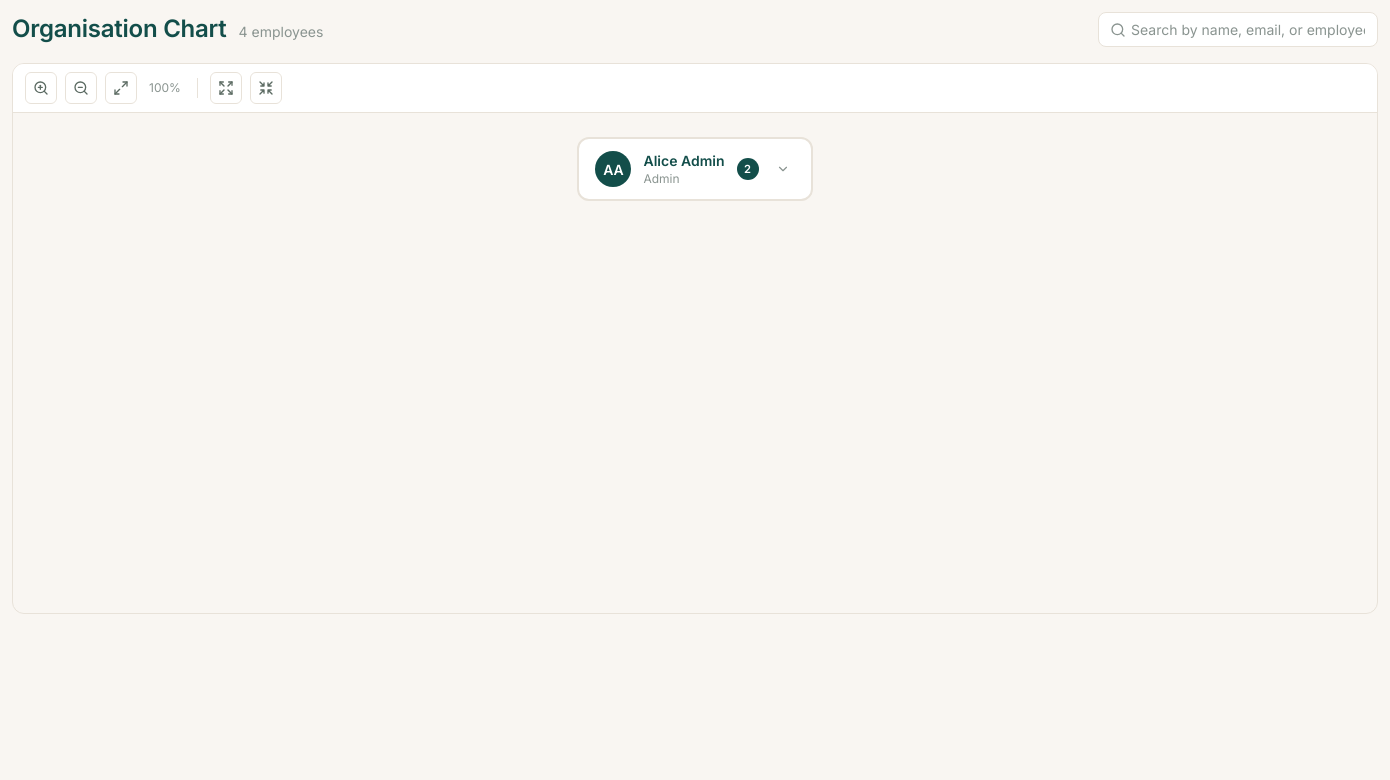
Test case: OrgChartPage › search highlights matching employee and shows no match
The width and height of the screenshot is (1390, 780).
Expected: the text "Alice Admin" is shown, 644,152 -> 724,169
Type "Charlie" into the field with placeholder "Search by name, email, or employee number…".
click(1238, 30); type("Charlie")  # box 1098,12 -> 1378,47
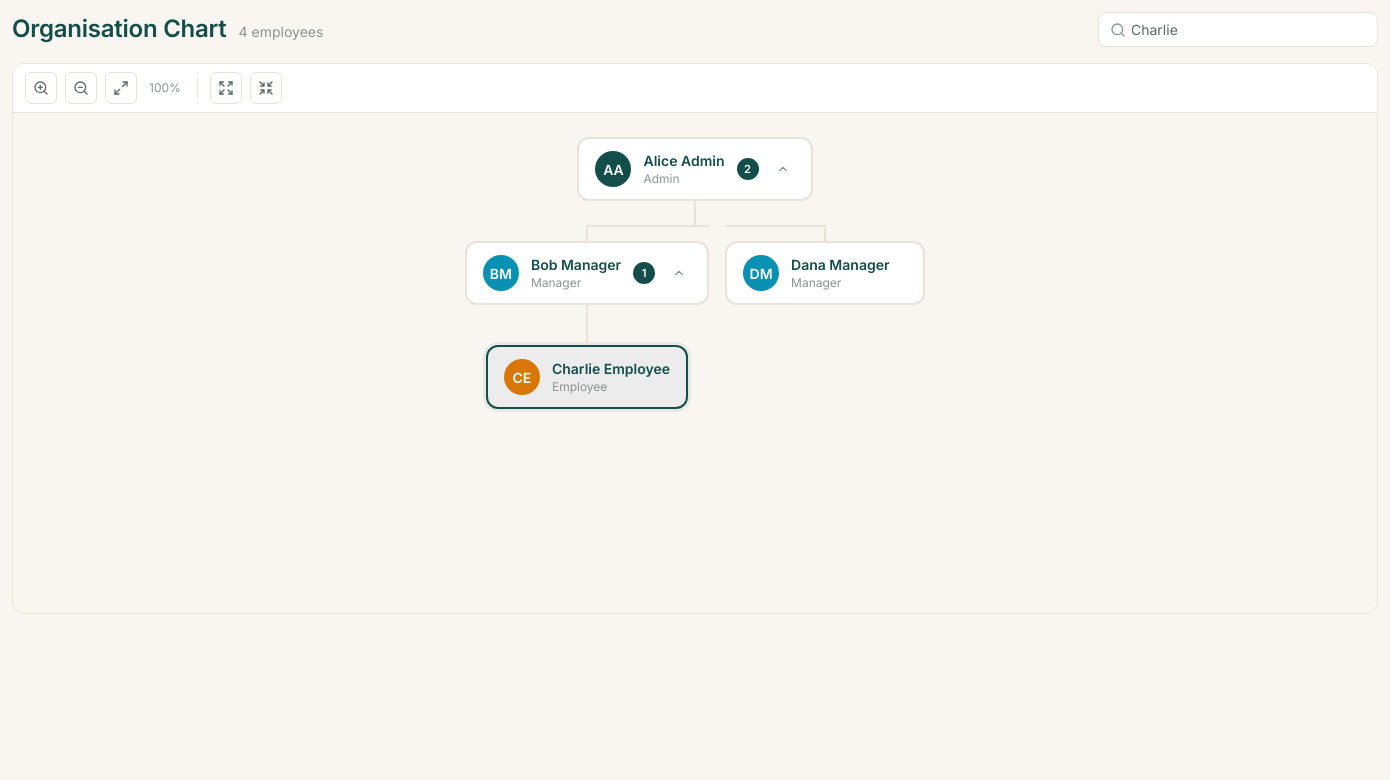
Expected: the element showing "CE Charlie Employee Employee" is shown, 486,329 -> 688,409
Replace the text in the field with placeholder "Search by name, email, or employee number…" with "Zzzzzzz" at (1238, 30), box 1098,12 -> 1378,47
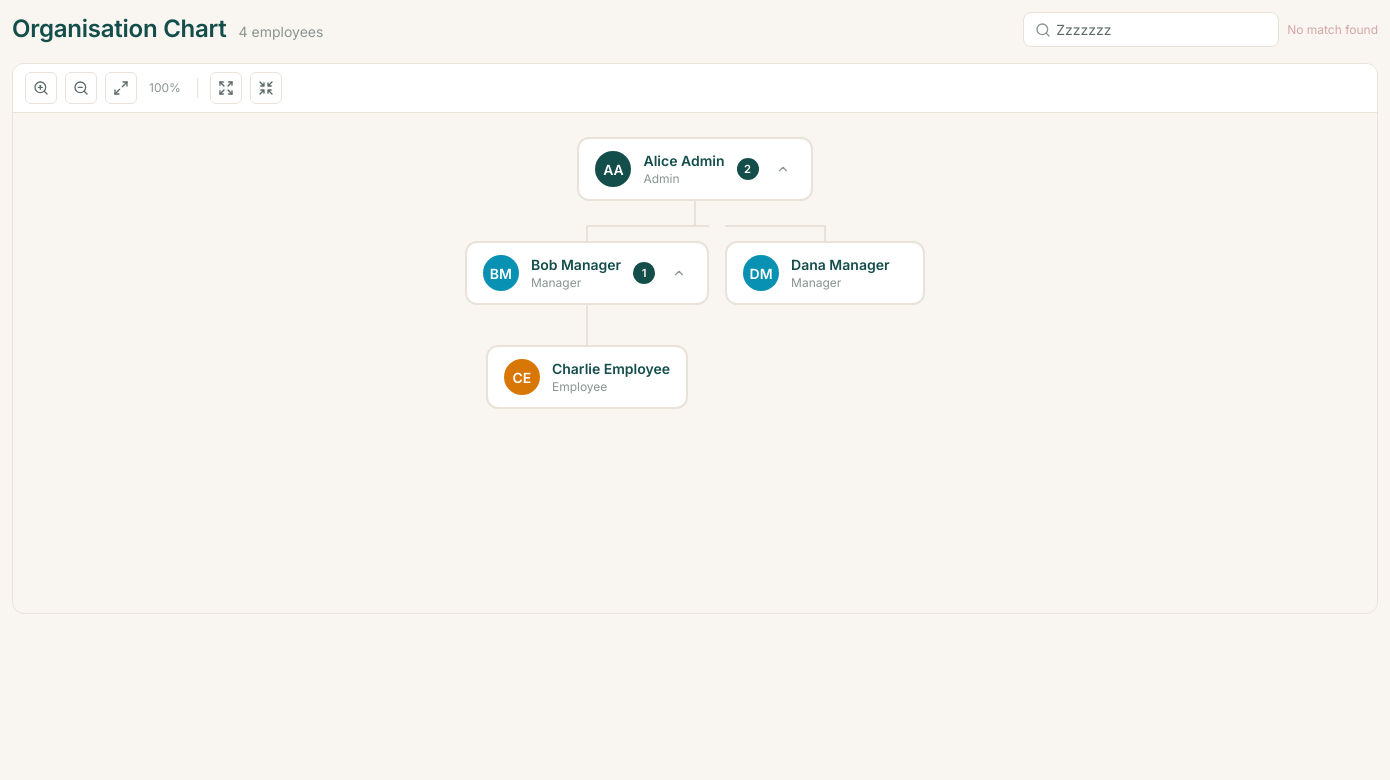
Expected: the text "No match found" is shown, 1287,20 -> 1378,38
